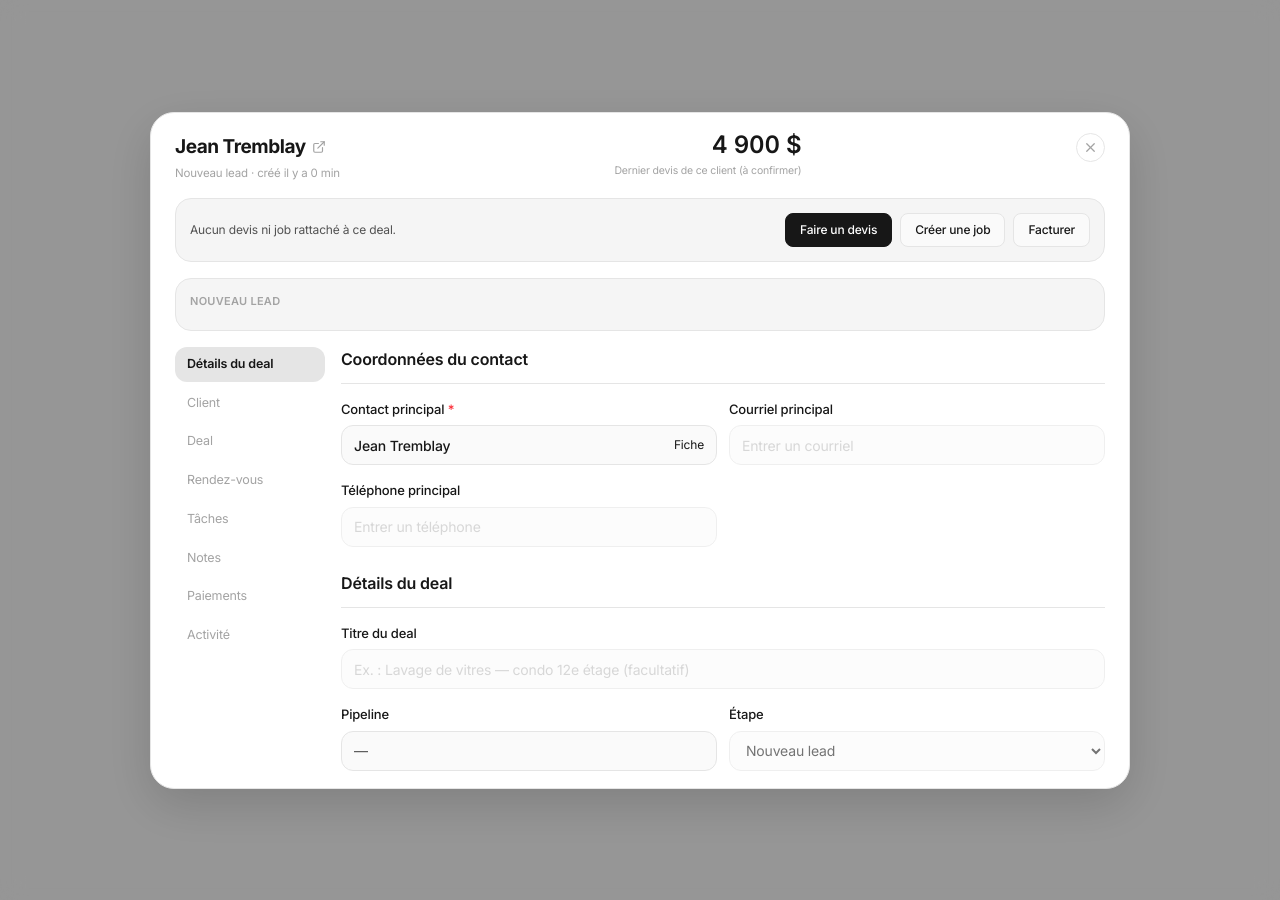
Test: fiche du deal — valeur › n'affiche PAS en gros le devis d'un autre contrat
Click the tab "Deal" at point(250, 442), box left=175, top=424, right=325, bottom=459
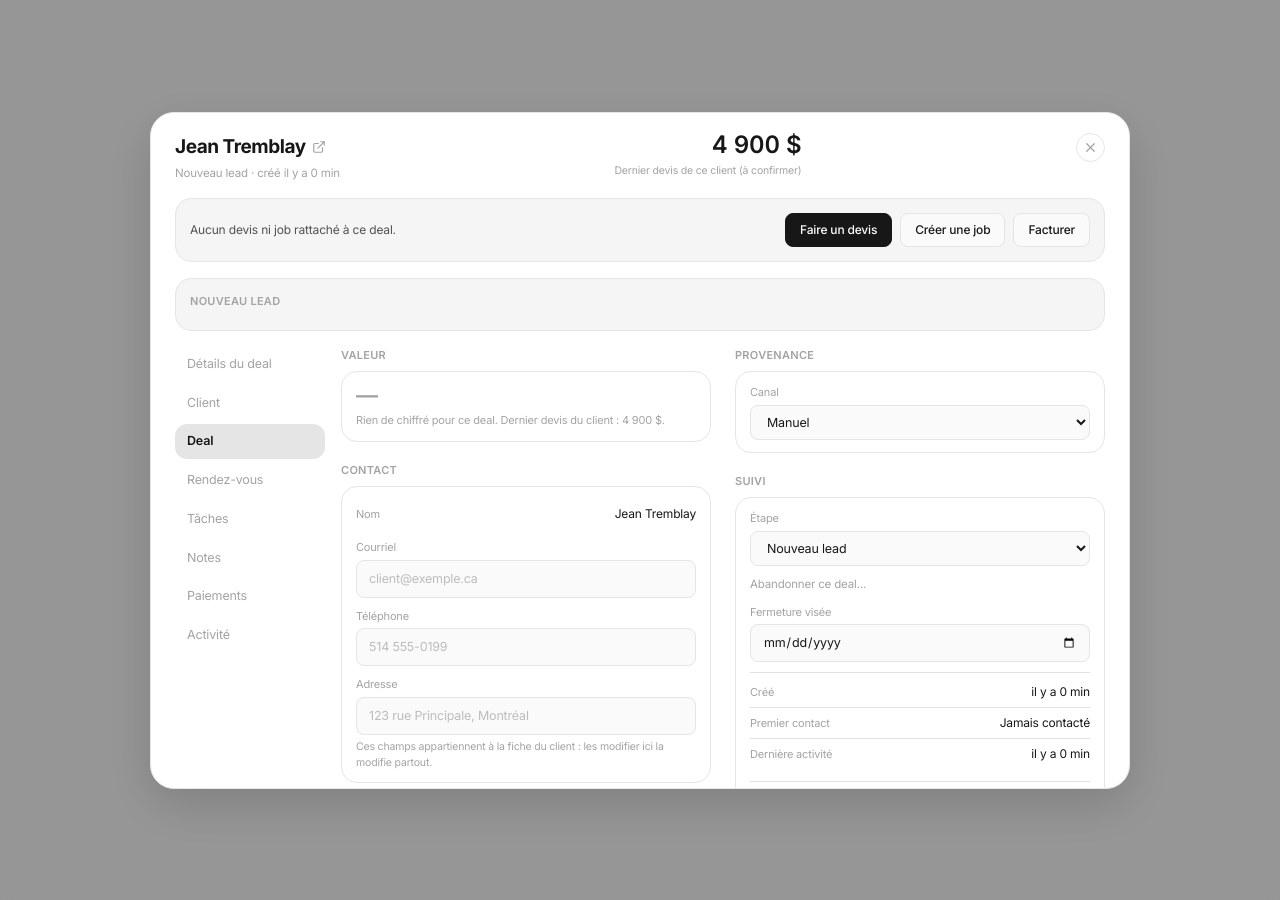
Result: the text "Rien de chiffré pour ce deal" is shown at left=356, top=413, right=665, bottom=427
Result: the text "Dernier devis du client" is shown at left=356, top=413, right=665, bottom=427
